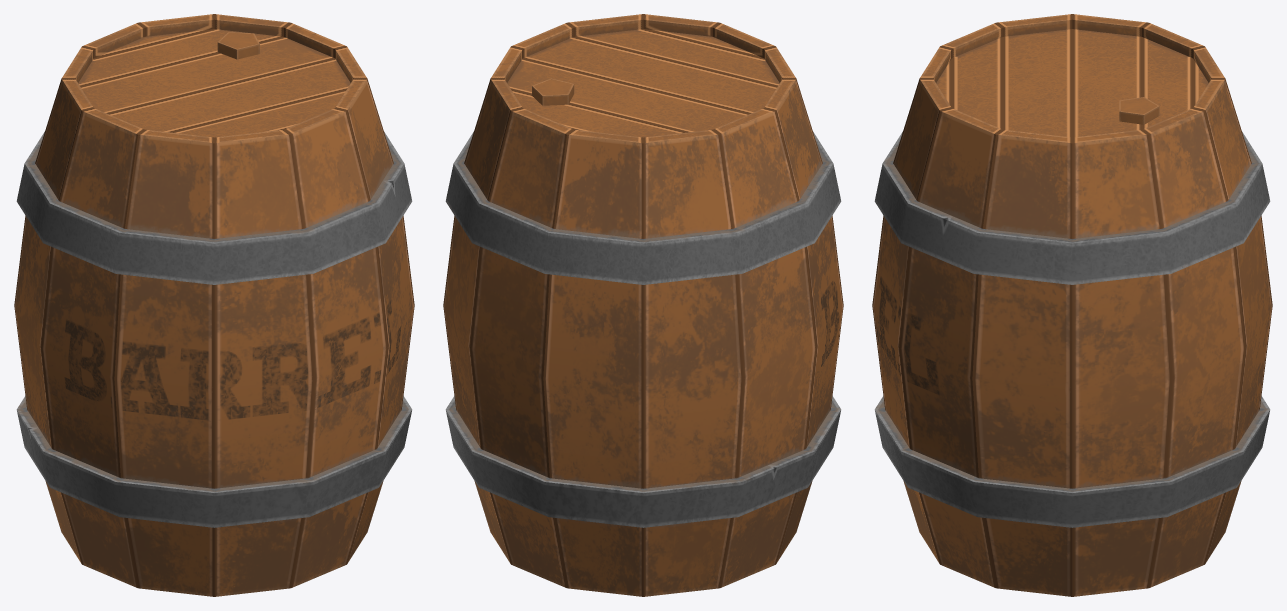
Rendered from Barrel.fbx.
3 views of the same model, side by side, from view 1: azimuth 30°, elevation 25°; view 2: azimuth 150°, elevation 25°; view 3: azimuth 270°, elevation 25° (orthographic).
Visible parts, largest first — view 1: Barrel; view 2: Barrel; view 3: Barrel.
Boxes of the visible parts, left/top/right/bottom form: Barrel: left=14, top=14, right=414, bottom=596; Barrel: left=443, top=14, right=843, bottom=596; Barrel: left=872, top=14, right=1272, bottom=596.
Bounding box in the file's own units: 72 × 90.12 × 72.
